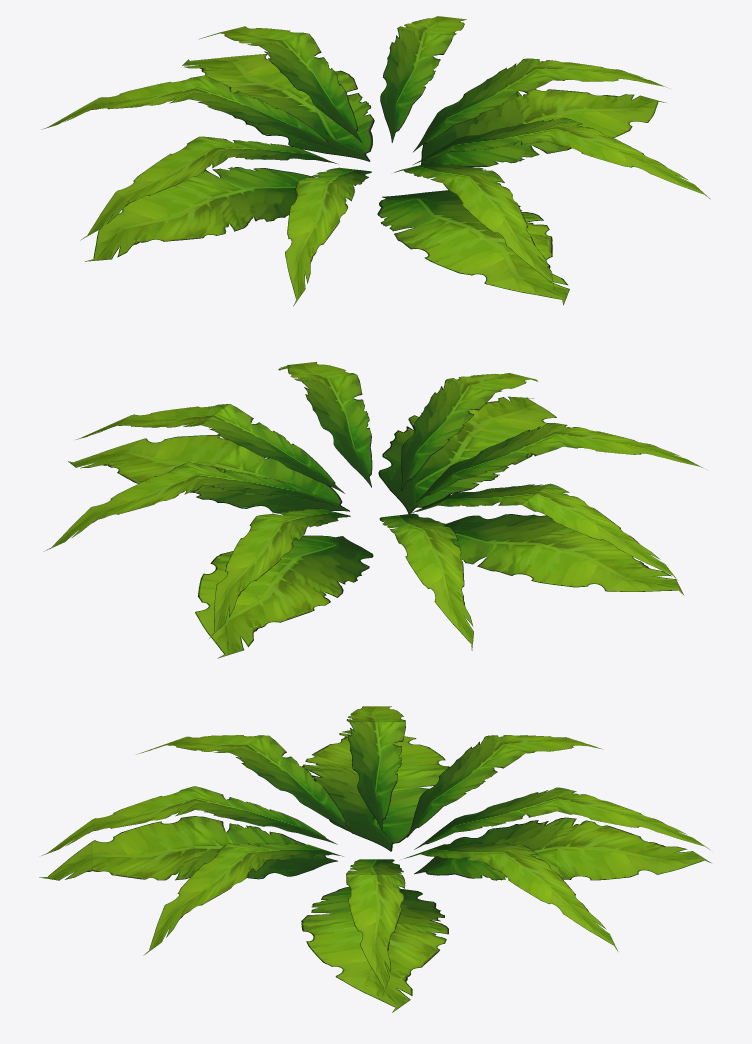
File: Hemp_26.fbx
3 views of the same model, one above another, from view 1: azimuth 30°, elevation 25°; view 2: azimuth 150°, elevation 25°; view 3: azimuth 270°, elevation 25° (orthographic). The views are drawn at different scales.
Visible parts, largest first — view 1: Hemp_26; view 2: Hemp_26; view 3: Hemp_26.
Boxes of the visible parts, x1,y1,x2,y2 form: Hemp_26: [42, 16, 710, 306]; Hemp_26: [44, 362, 706, 658]; Hemp_26: [39, 706, 711, 1012].
Size of the model in its own units: 600 by 71.42 by 600.
